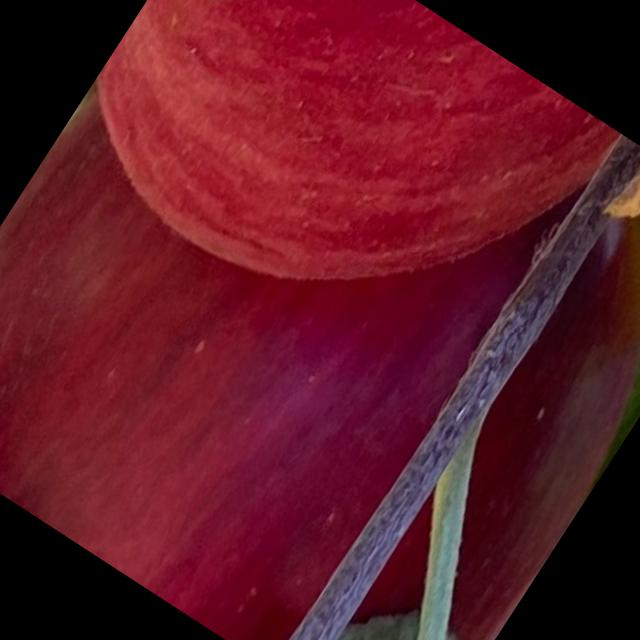Apples: (0, 0, 639, 639), (45, 0, 623, 414)
